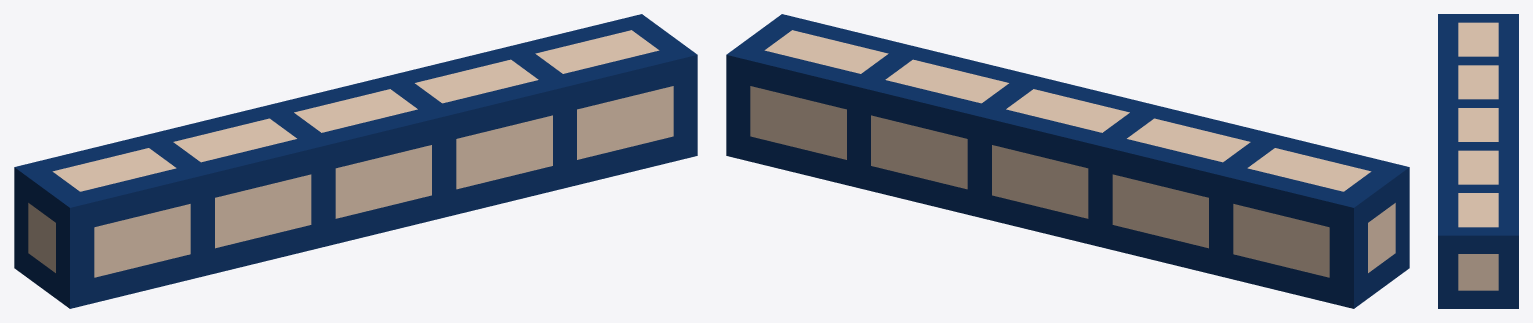
The model's file is segmeter_0.gltf.
3 renders of one model, left to right at view 1: azimuth 30°, elevation 25°; view 2: azimuth 150°, elevation 25°; view 3: azimuth 270°, elevation 25°, orthographic. The views are drawn at different scales.
Bounding box in the file's own units: 2.6 × 0.4 × 0.4.
1 material, 1 textured.
